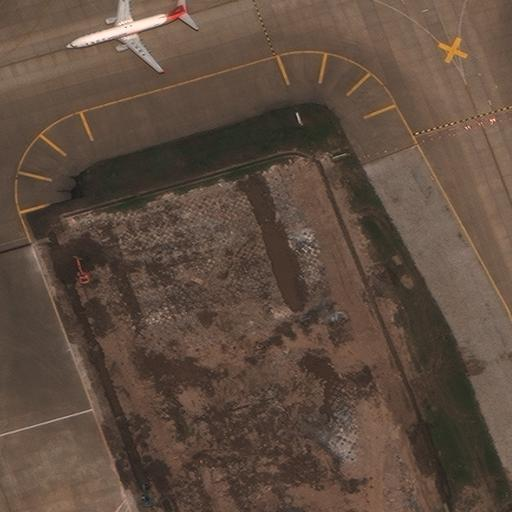Medium Civil Transport: (65, 0, 188, 73)
